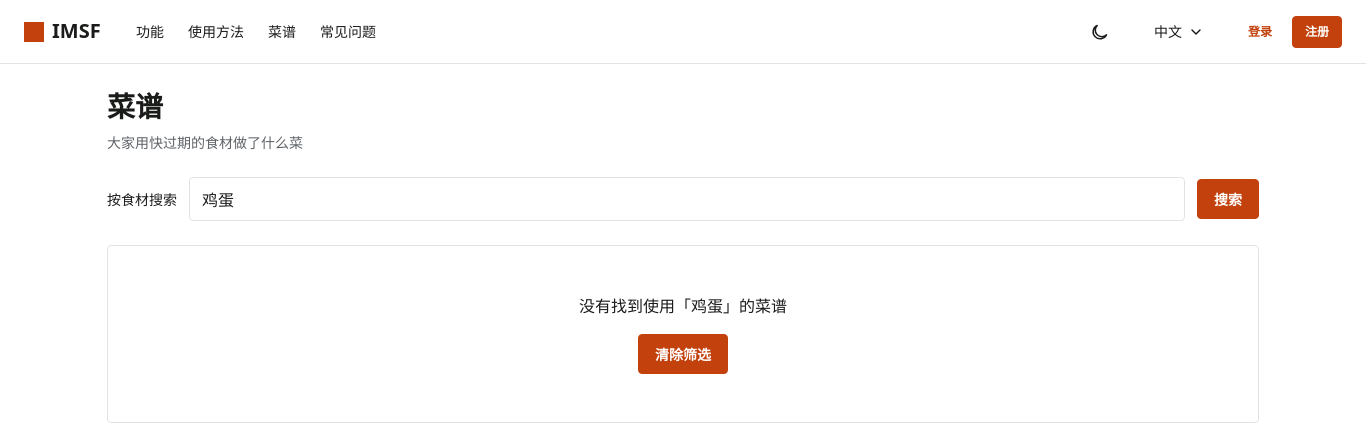
Test: blog list › search no-match: honest message + clear-filter button
Expected: the text "没有找到使用「鸡蛋」的菜谱" is shown, [579,294,787,318]
What coordinates should you click on to do the following:
click the button "清除筛选"
I would click on:
 (683, 354)
Its box is [638,334,728,374].
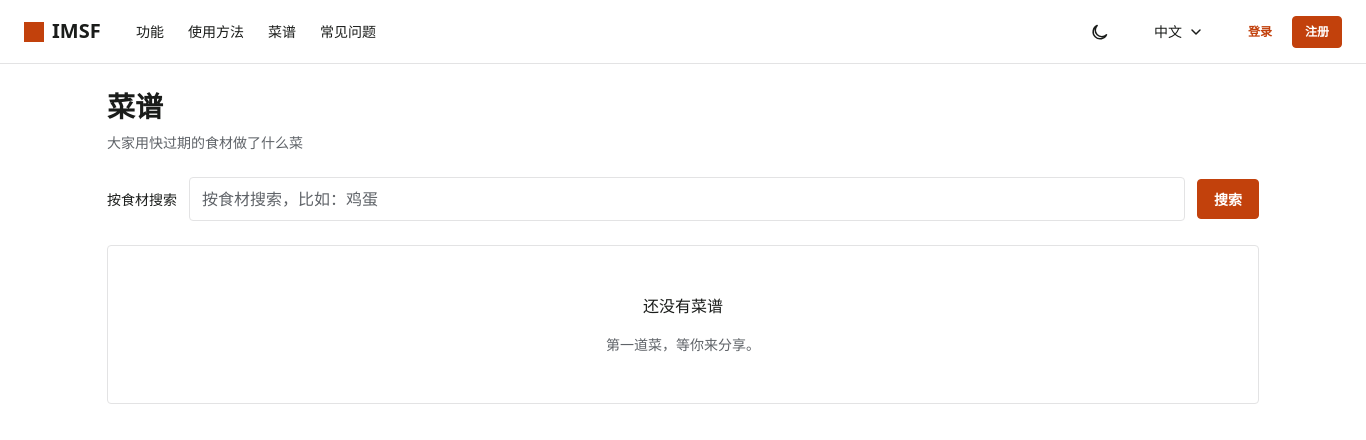
Expected: the text "还没有菜谱" is shown, [643,294,723,318]
